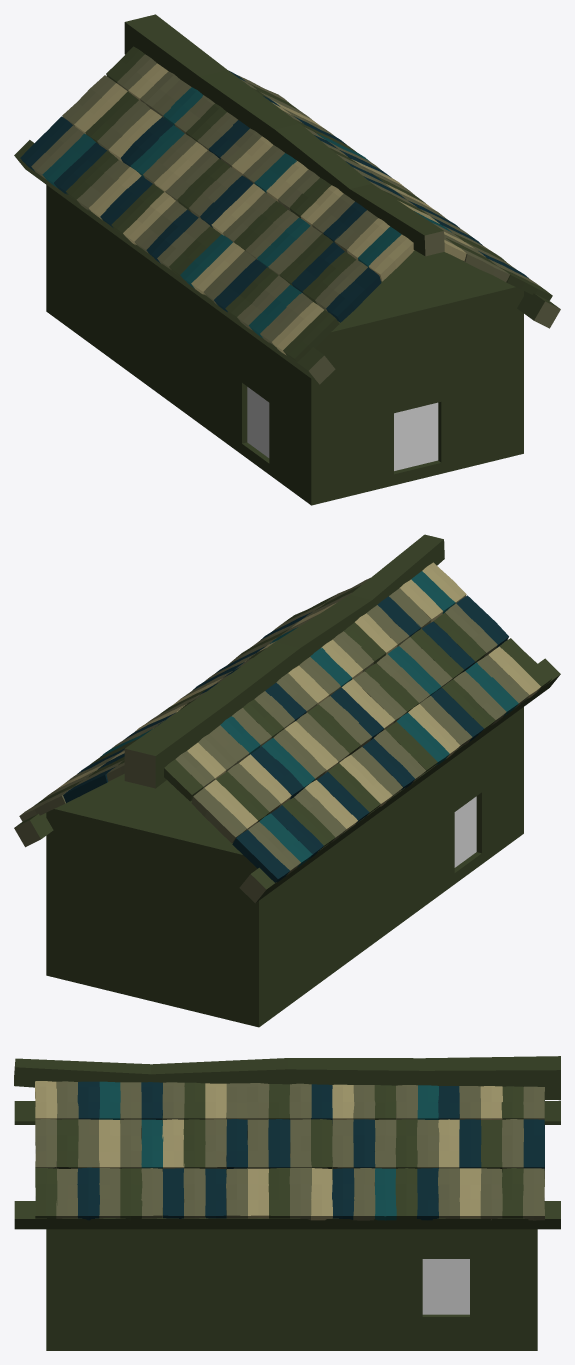
File: hunterhouse.fbx
The picture shows the model from 3 angles, top to bottom: view 1: azimuth 30°, elevation 25°; view 2: azimuth 150°, elevation 25°; view 3: azimuth 270°, elevation 25°; orthographic projection. The views are drawn at different scales.
Visible parts, largest first — view 1: HunterHouseRoofChunks, HunterHouseTop, HunterHouseBot, HunterHouseRoofSupportBeams, HunterHouseRoof, HunterHouseBuildingTrigger; view 2: HunterHouseRoofChunks, HunterHouseTop, HunterHouseBot, HunterHouseRoofSupportBeams, HunterHouseRoof, HunterHouseBuildingTrigger; view 3: HunterHouseRoofChunks, HunterHouseTop, HunterHouseRoofSupportBeams, HunterHouseBot, HunterHouseBuildingTrigger.
Boxes of the visible parts, box(x1,y1,x2,y2) form: HunterHouseRoofChunks: box(20, 46, 552, 362); HunterHouseTop: box(46, 185, 523, 465); HunterHouseBot: box(46, 270, 523, 505); HunterHouseRoofSupportBeams: box(14, 14, 560, 384); HunterHouseRoof: box(338, 250, 508, 325); HunterHouseBuildingTrigger: box(247, 387, 438, 470); HunterHouseRoofChunks: box(19, 562, 551, 882); HunterHouseTop: box(46, 707, 523, 985); HunterHouseBot: box(46, 794, 523, 1027); HunterHouseRoofSupportBeams: box(14, 534, 560, 903); HunterHouseRoof: box(61, 774, 235, 848); HunterHouseBuildingTrigger: box(454, 796, 476, 867); HunterHouseRoofChunks: box(35, 1081, 544, 1220); HunterHouseTop: box(46, 1229, 537, 1314); HunterHouseRoofSupportBeams: box(14, 1056, 560, 1229); HunterHouseBot: box(46, 1312, 537, 1350); HunterHouseBuildingTrigger: box(422, 1259, 469, 1314).
Size of what is drawn, in the model's own units: 10.51 by 9.99 by 20.64.
